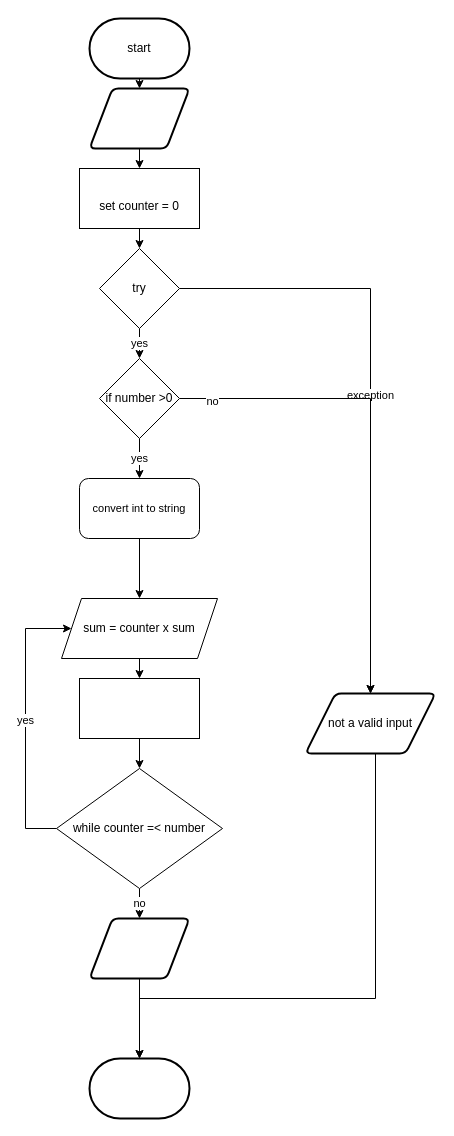
This 454x1136 diagram has some shape labels left out. Here are the shapes that lost their labels. From the top down, the centre of each, then its label:
At point (139, 118): "input number".
At point (139, 708): "counter= counter + 1".
At point (139, 948): "output sum".
At point (139, 1088): "end".
